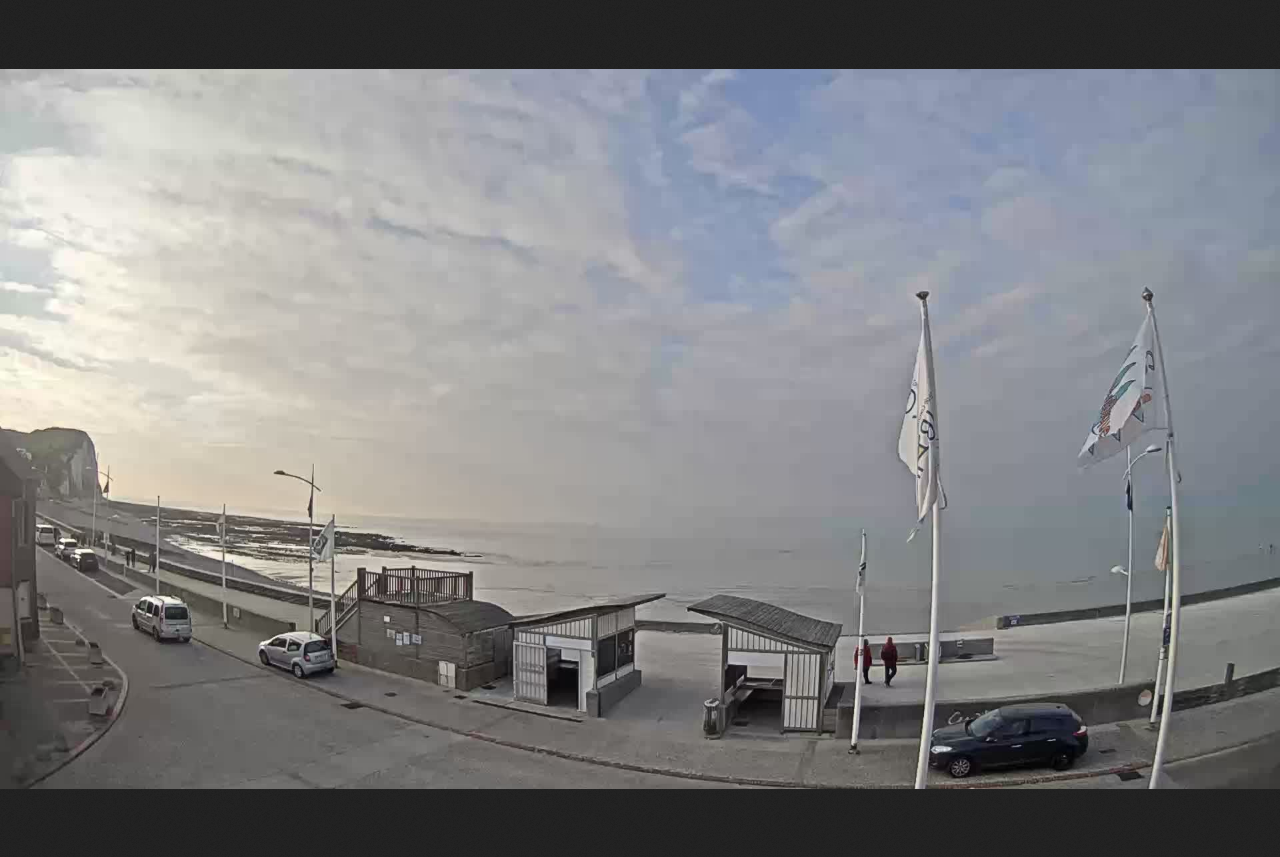maybe: (1071, 283, 1180, 474)
no: (894, 282, 957, 531)
